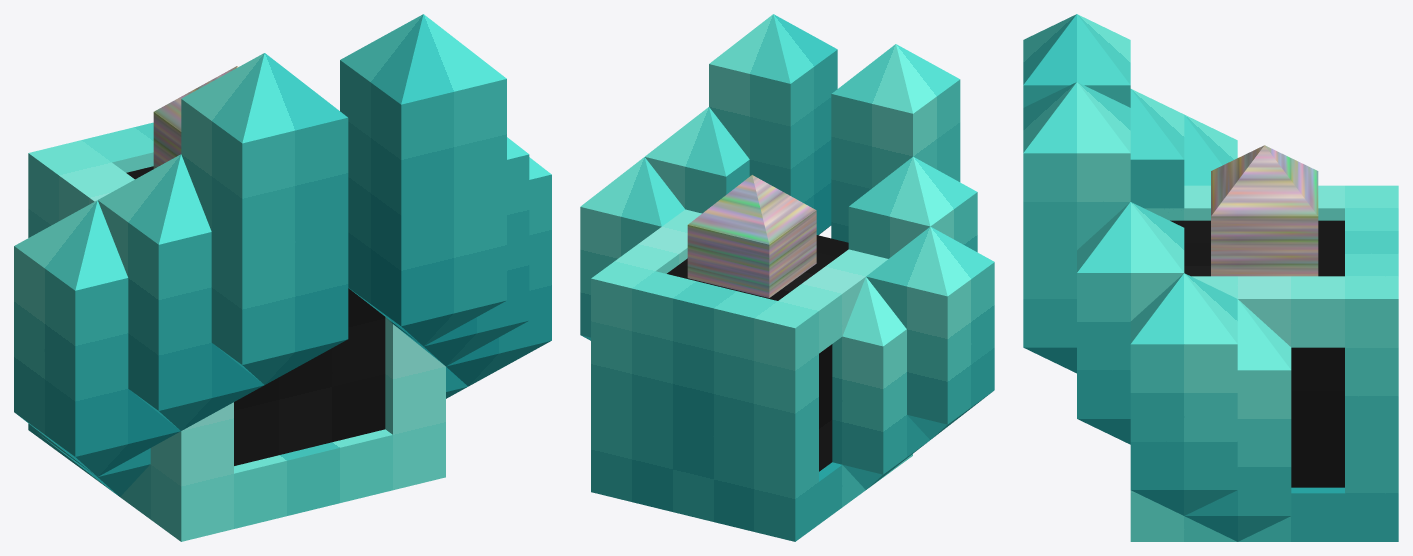
Rendered from head_smart.obj.
3 views of the same model, side by side, from view 1: azimuth 30°, elevation 25°; view 2: azimuth 150°, elevation 25°; view 3: azimuth 270°, elevation 25° (orthographic). The views are drawn at different scales.
Visible parts, largest first — view 1: HEAD_SMART_DIAMOND_Cube.297; view 2: HEAD_SMART_DIAMOND_Cube.297; view 3: HEAD_SMART_DIAMOND_Cube.297.
Boxes of the visible parts, x1=… form: HEAD_SMART_DIAMOND_Cube.297: x1=14, y1=14, x2=551, y2=541; HEAD_SMART_DIAMOND_Cube.297: x1=580, y1=14, x2=994, y2=541; HEAD_SMART_DIAMOND_Cube.297: x1=1023, y1=14, x2=1398, y2=541.
Bounding box in the file's own units: 0.5625 × 0.5625 × 0.4375.
